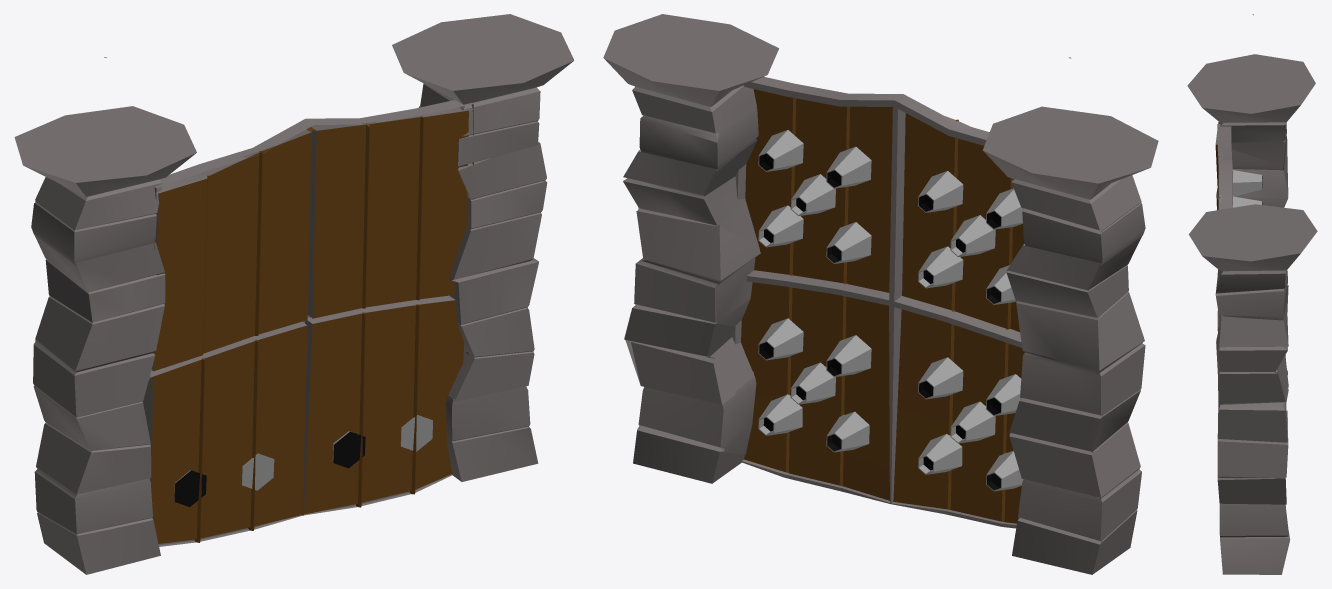
File: arrowtrap2.fbx
3 renders of one model, left to right at view 1: azimuth 30°, elevation 25°; view 2: azimuth 150°, elevation 25°; view 3: azimuth 270°, elevation 25°, orthographic. The views are drawn at different scales.
Parts seen in each view (by area): view 1: Cylinder.016; view 2: Cylinder.016; view 3: Cylinder.016.
Boxes of the visible parts, left/top/right/bottom form: Cylinder.016: left=14, top=14, right=574, bottom=574; Cylinder.016: left=603, top=14, right=1158, bottom=574; Cylinder.016: left=1187, top=14, right=1317, bottom=574.
Size of the model in its own units: 202 by 179 by 52.8.
